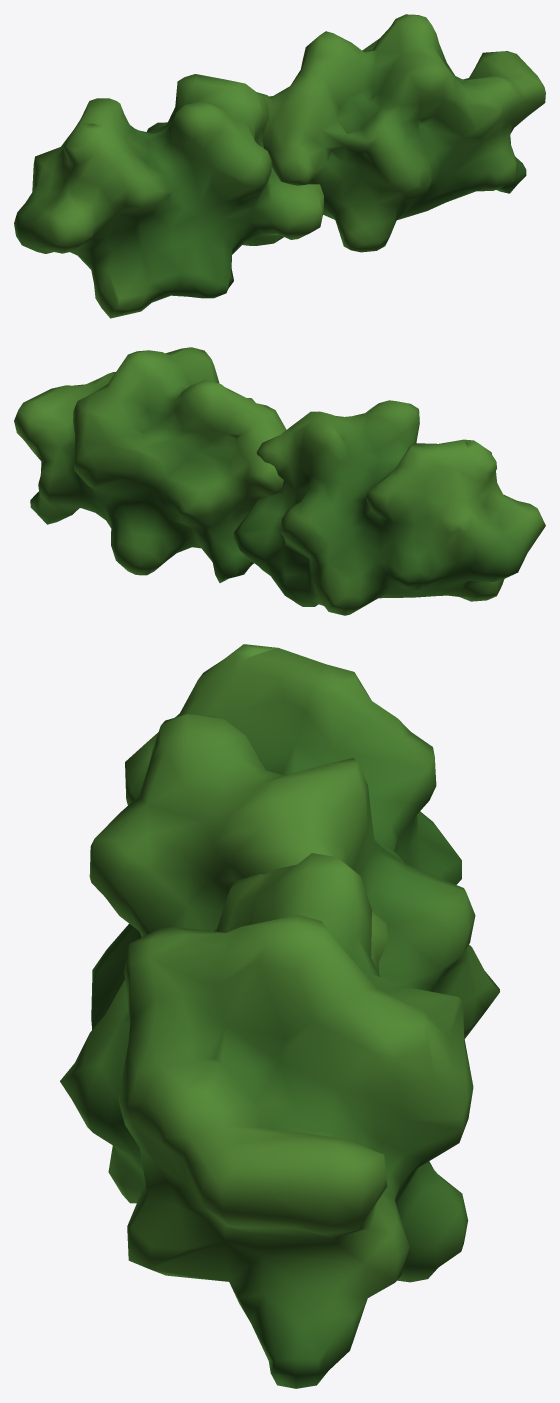
File: hedge.glb
3 renders of one model, top to bottom at view 1: azimuth 30°, elevation 25°; view 2: azimuth 150°, elevation 25°; view 3: azimuth 270°, elevation 25°, orthographic. The views are drawn at different scales.
Visible parts, largest first — view 1: hedge_foliage; view 2: hedge_foliage; view 3: hedge_foliage.
Boxes of the visible parts, bbox=[...] form: hedge_foliage: bbox=[14, 14, 545, 318]; hedge_foliage: bbox=[14, 347, 545, 615]; hedge_foliage: bbox=[60, 644, 499, 1388].
Bounding box in the file's own units: 2.27 × 0.839 × 0.8768.
